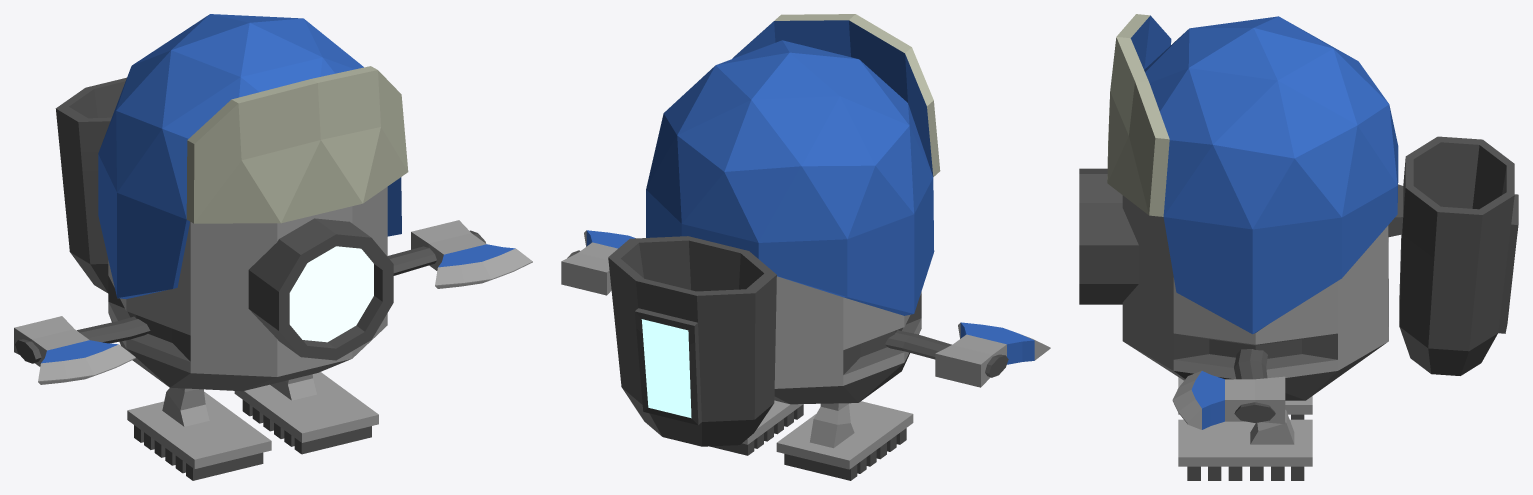
Rendered from lumberjack.fbx.
3 views of the same model, side by side, from view 1: azimuth 30°, elevation 25°; view 2: azimuth 150°, elevation 25°; view 3: azimuth 270°, elevation 25° (orthographic). The views are drawn at different scales.
Visible parts, largest first — view 1: lumberJackBody, lumberLegRight, lumberLegLeft, lumberAxeRight, lumberAxeLeft; view 2: lumberJackBody, lumberLegRight, lumberAxeRight, lumberAxeLeft, lumberLegLeft; view 3: lumberJackBody, lumberLegLeft, lumberAxeLeft, lumberLegRight.
Part boxes in pixels (x1,y1,x2,y2): lumberJackBody: (55,14,408,391); lumberLegRight: (127,387,271,480); lumberLegLeft: (234,372,378,454); lumberAxeRight: (14,316,150,384); lumberAxeLeft: (387,220,532,288); lumberJackBody: (608,14,940,446); lumberLegRight: (776,401,913,480); lumberAxeRight: (885,322,1050,387); lumberAxeLeft: (561,230,635,295); lumberLegLeft: (709,400,803,455); lumberJackBody: (1079,14,1518,400); lumberLegLeft: (1178,410,1312,480); lumberAxeLeft: (1172,349,1285,429); lumberLegRight: (1178,377,1312,419).
Size of the model in its own units: 385 by 307 by 298.
